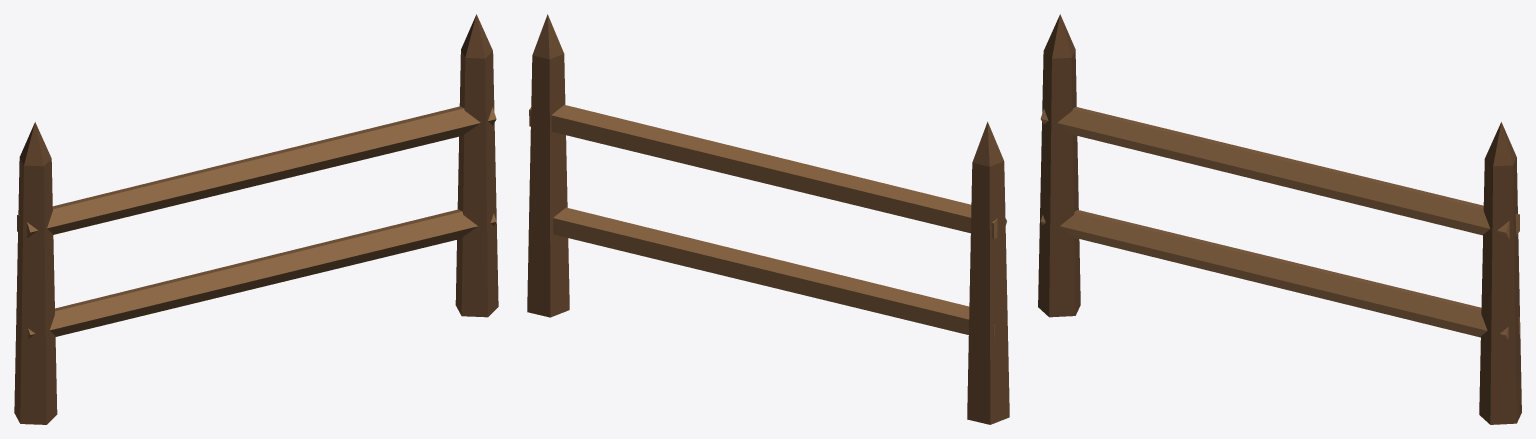
File: fence-log.glb
The picture shows the model from 3 angles, left to right: view 1: azimuth 30°, elevation 25°; view 2: azimuth 150°, elevation 25°; view 3: azimuth 330°, elevation 25°; orthographic projection.
Visible parts, largest first — view 1: fence_log; view 2: fence_log; view 3: fence_log.
Boxes of the visible parts, x1,y1,x2,y2 form: fence_log: (14, 14, 498, 424); fence_log: (527, 14, 1009, 424); fence_log: (1038, 14, 1521, 424).
Size of the model in its own units: 1.95 by 1.15 by 0.1454.
